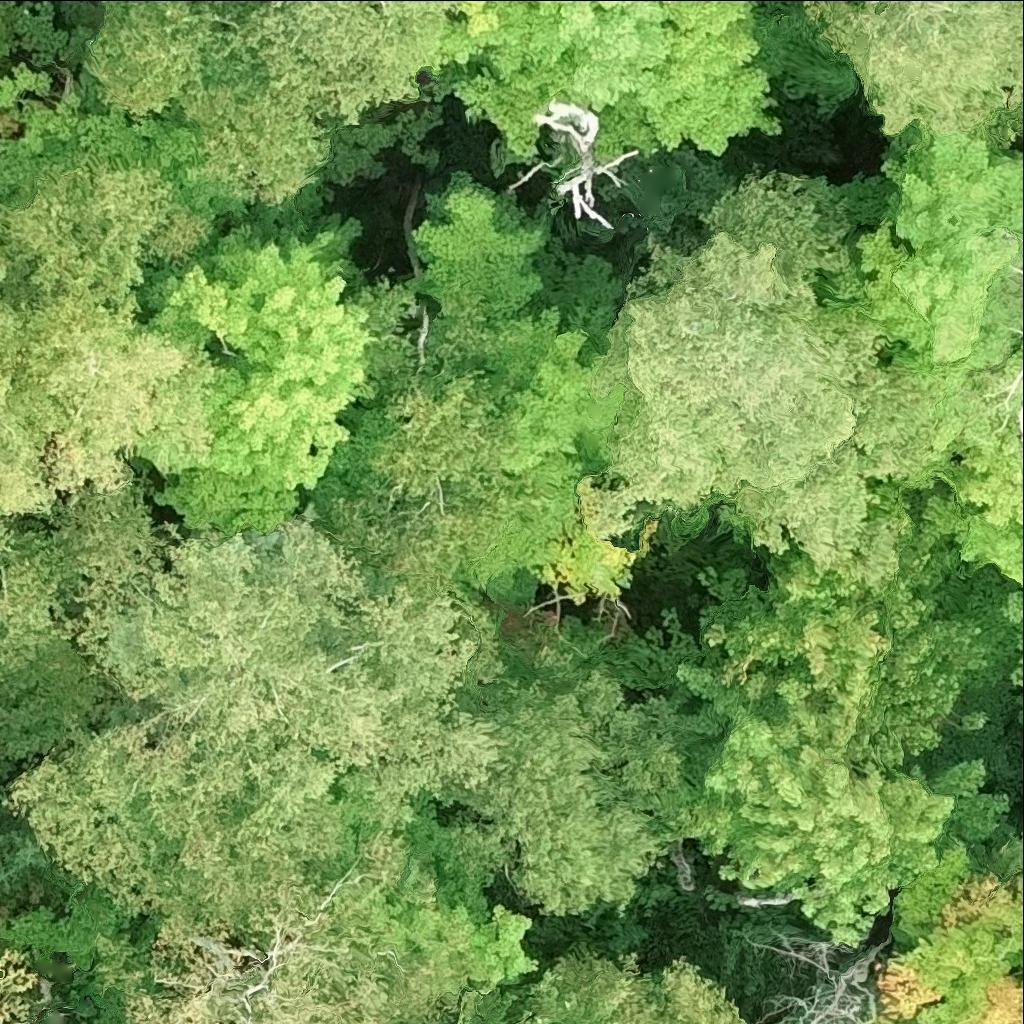crown: (7, 515, 498, 931), (584, 171, 942, 582), (617, 607, 1023, 949), (677, 467, 1020, 786), (817, 109, 1023, 587), (0, 168, 226, 514), (88, 0, 446, 206), (159, 233, 373, 537), (438, 670, 686, 916), (431, 0, 778, 166), (122, 835, 428, 1023), (326, 370, 508, 594), (0, 478, 165, 677), (804, 0, 1023, 133), (869, 843, 1023, 1023), (550, 945, 740, 1023), (535, 100, 637, 228), (0, 638, 106, 758), (0, 876, 133, 969), (0, 817, 48, 897), (0, 949, 37, 1023), (1004, 584, 1023, 728), (506, 1016, 552, 1023), (1019, 878, 1023, 888)
